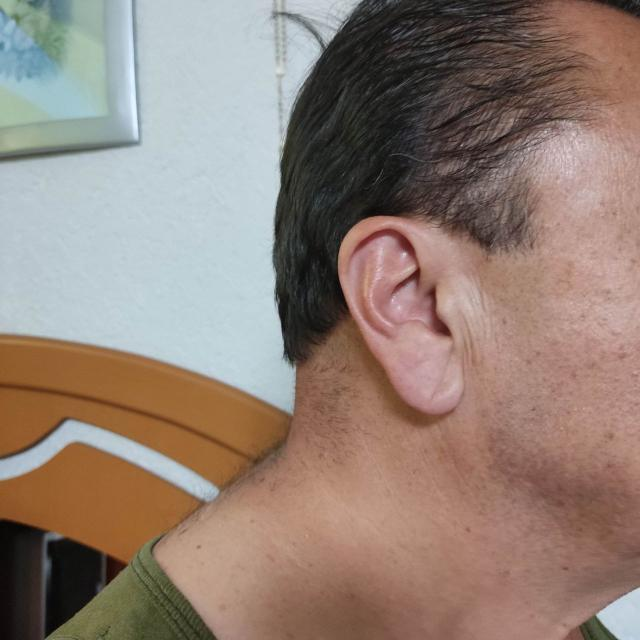ear: (339, 216, 464, 415)
